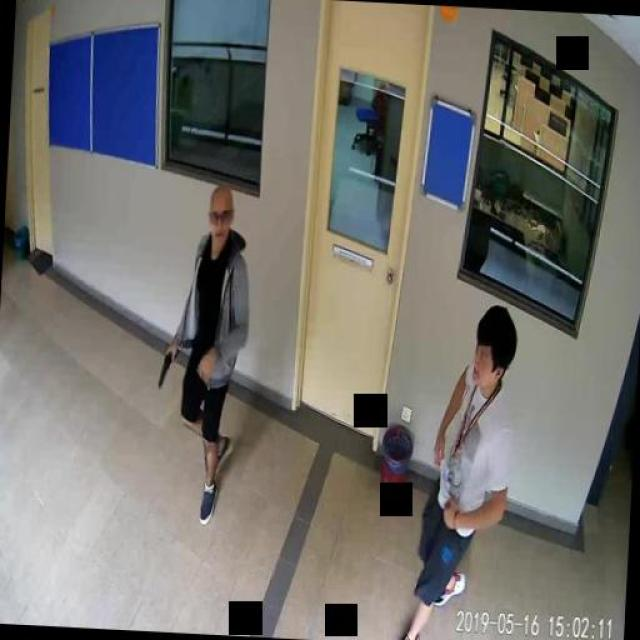gun: (156, 345, 176, 387)
